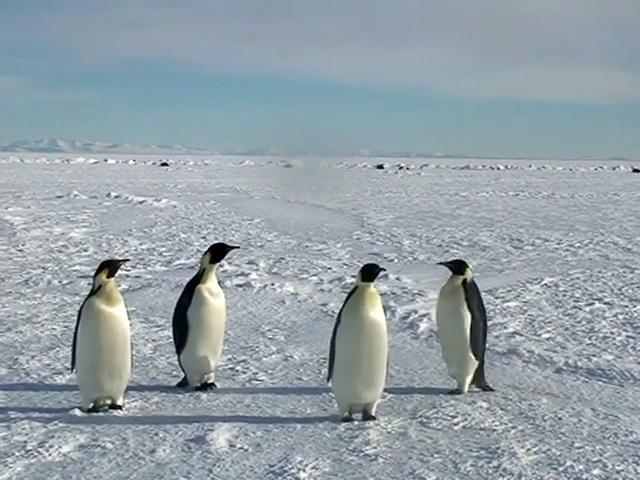animal: (329, 265, 389, 422)
